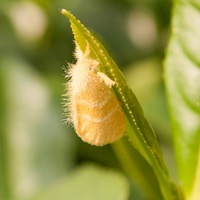insect: (63, 41, 124, 145)
